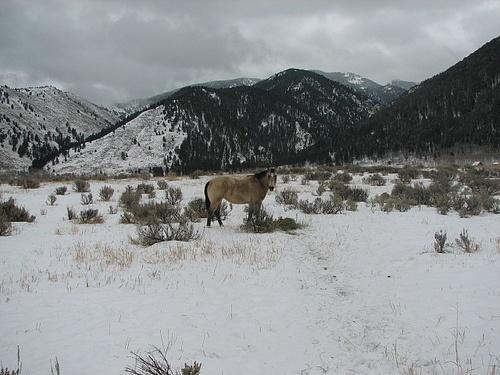horse: (204, 167, 280, 227)
